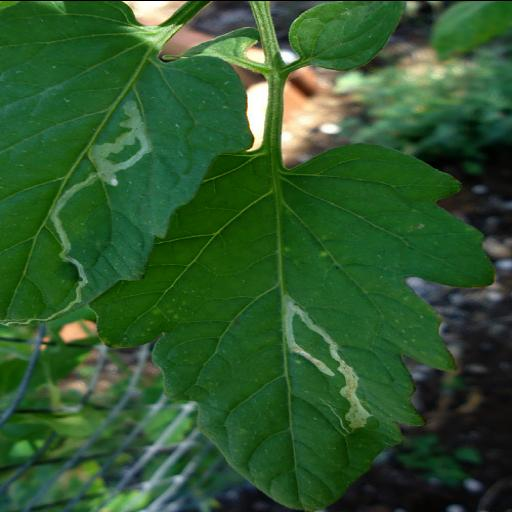Leaf Miner: (84, 141, 500, 512), (0, 0, 251, 331)
